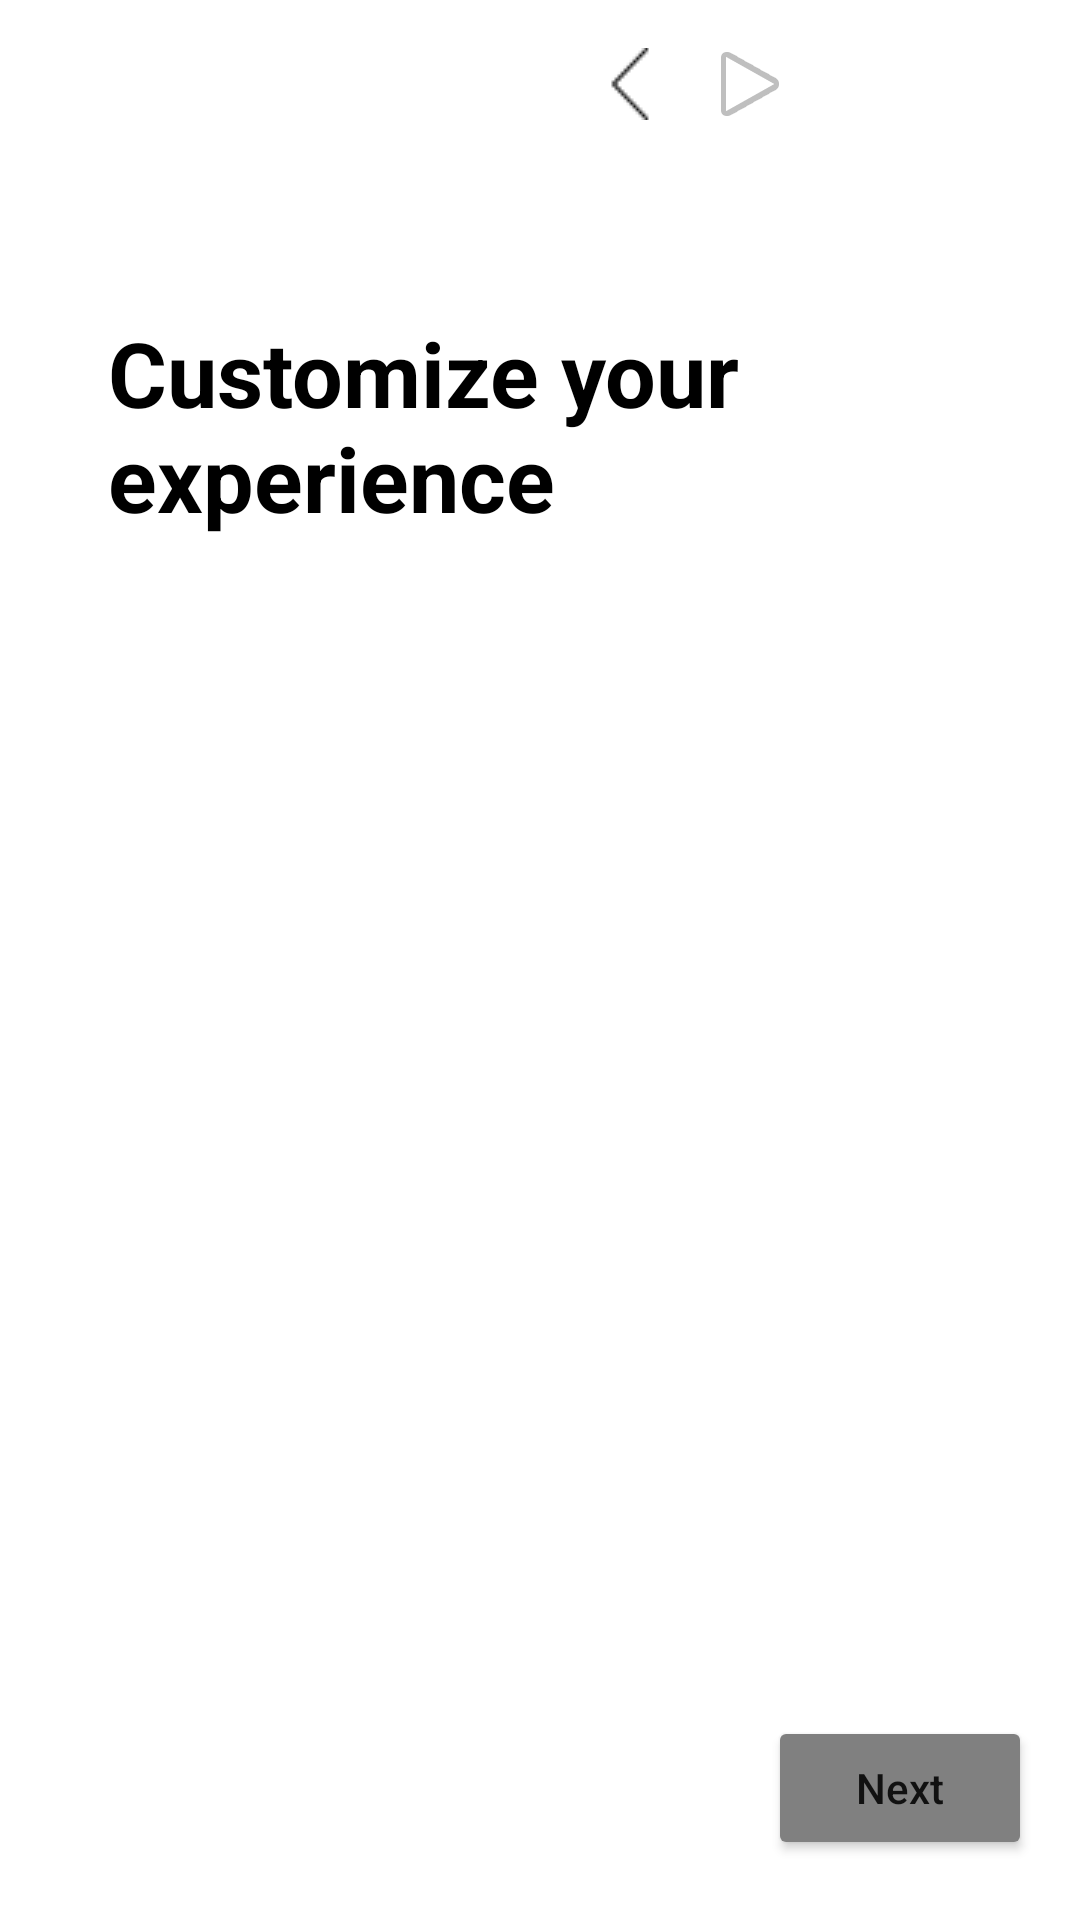

Icons on this 1080*1920 Android screen, each with its box as (x1=x1, y1=y1, x2=x2, y2=y2):
play: (x1=721, y1=52, x2=779, y2=116)
